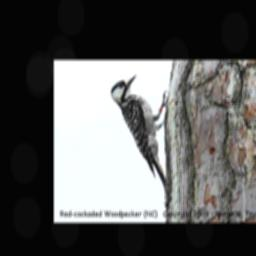Woodpecker: (109, 75, 171, 200)
